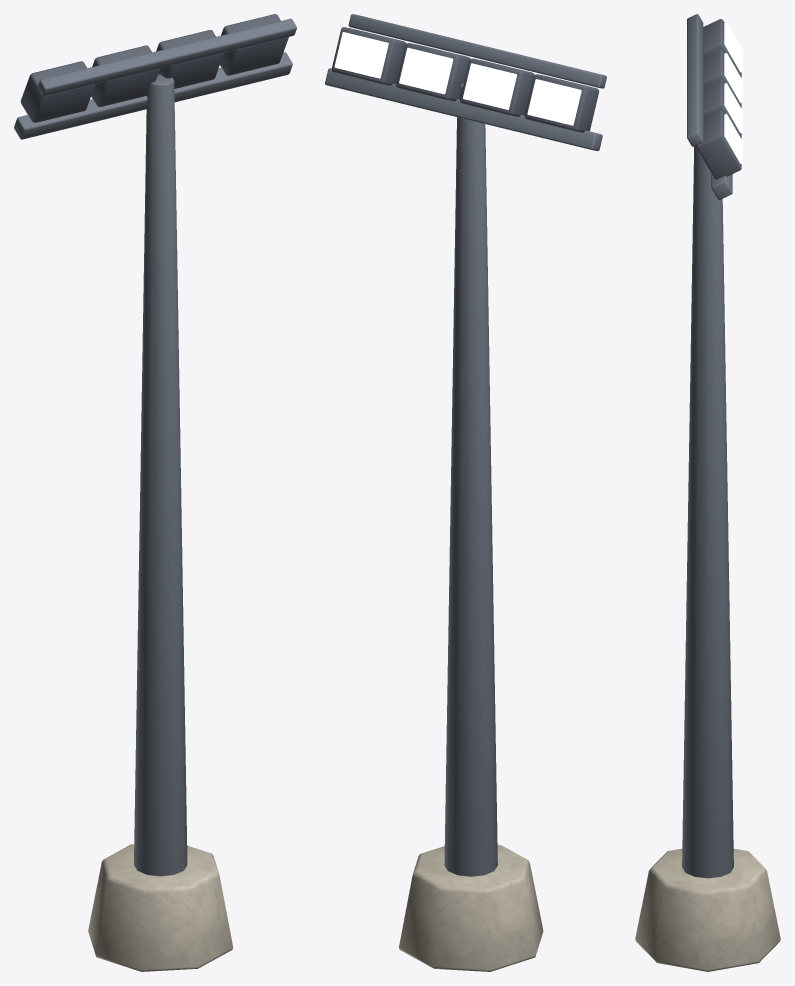
File: floodlight_tower.glb
3 renders of one model, left to right at view 1: azimuth 30°, elevation 25°; view 2: azimuth 150°, elevation 25°; view 3: azimuth 270°, elevation 25°, orthographic. The views are drawn at different scales.
Visible parts, largest first — view 1: MainPole, Footing, TopCrossBar, CrossBar, LampBody_0, LampBody_3, LampBody_1, LampBody_2; view 2: MainPole, Footing, CrossBar, TopCrossBar, LampLens_3, LampLens_0, LampLens_2, LampLens_1, LampBody_0, LampBody_3, LampBody_1, LampBody_2; view 3: MainPole, Footing, TopCrossBar, LampBody_3, LampBody_0, LampBody_2, LampBody_1, LampLens_0, LampLens_3, LampLens_1, LampLens_2, CrossBar.
Boxes of the visible parts, x1,y1,x2,y2 form: MainPole: (134,74,187,876); Footing: (88,844,233,971); TopCrossBar: (37,18,296,96); CrossBar: (14,52,292,139); LampBody_0: (20,61,95,122); LampBody_3: (220,14,288,75); LampBody_1: (91,45,159,106); LampBody_2: (156,30,223,88); MainPole: (444,83,497,876); Footing: (399,844,543,971); CrossBar: (325,68,602,150); TopCrossBar: (348,14,606,88); LampLens_3: (334,32,388,78); LampLens_0: (527,79,581,125); LampLens_2: (399,47,453,94); LampLens_1: (463,63,516,109); LampBody_0: (524,74,599,132); LampBody_3: (331,27,406,85); LampBody_1: (460,58,534,116); LampBody_2: (396,43,470,101); MainPole: (682,146,733,878); Footing: (635,848,780,971); TopCrossBar: (687,14,703,146); LampBody_3: (696,110,741,179); LampBody_0: (703,19,741,77); LampBody_2: (703,80,741,138); LampBody_1: (703,49,741,107); LampLens_0: (724,22,742,72); LampLens_3: (724,113,742,163); LampLens_1: (724,53,742,103); LampLens_2: (724,83,742,133); CrossBar: (711,174,732,199).
Bounding box in the file's own units: 3.2 × 10.19 × 1.55.
4 materials, 1 textured.
